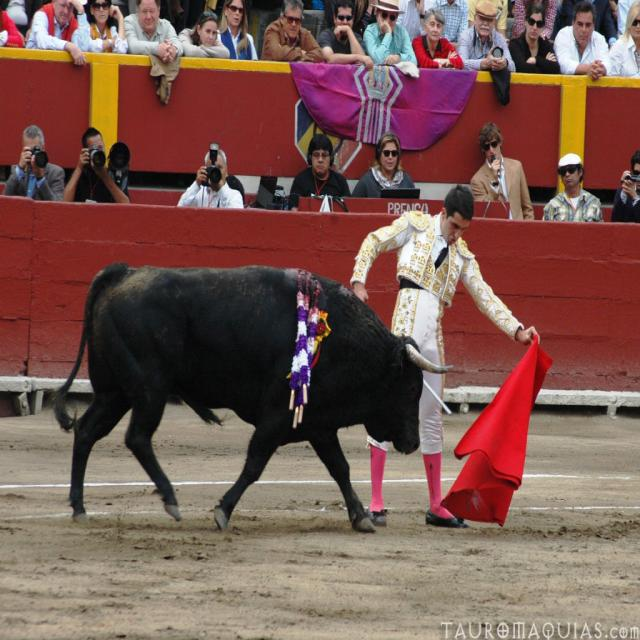Bull: (60, 264, 450, 533)
